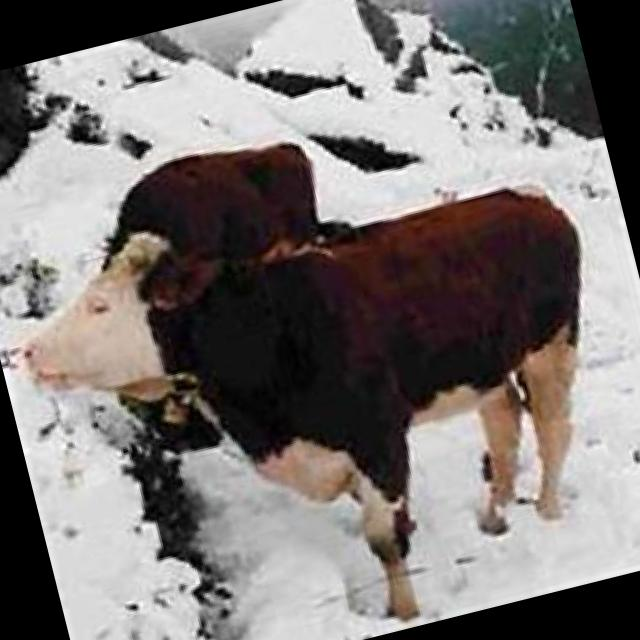animal: (0, 127, 640, 640)
